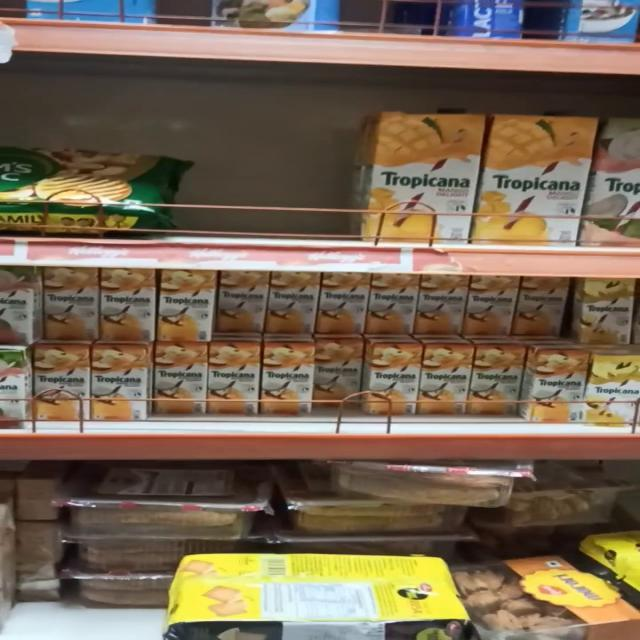Tropicana: (342, 105, 476, 245), (480, 109, 600, 242), (148, 265, 209, 343), (42, 268, 102, 342), (100, 266, 158, 341), (89, 348, 147, 420), (256, 268, 318, 334), (366, 342, 421, 416), (31, 348, 88, 418), (532, 348, 587, 418), (420, 344, 472, 416), (154, 347, 209, 415), (209, 270, 264, 337), (207, 345, 261, 413), (262, 342, 314, 411), (471, 342, 523, 410), (364, 273, 420, 335), (314, 270, 363, 334), (316, 338, 364, 402), (508, 274, 559, 334), (464, 278, 512, 338), (414, 273, 459, 336)
